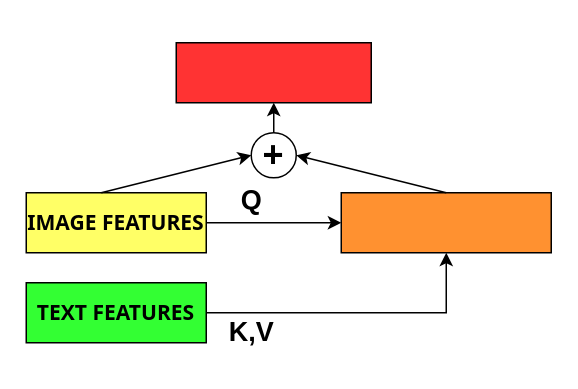
Image size: 578x389. Some labels were removed from this diagram. Each missing label, with the centre of its shape:
"FINAL IMAGE FEATURES" belongs at point (273, 72).
"INTER IMAGE FEATURES" belongs at point (445, 222).
